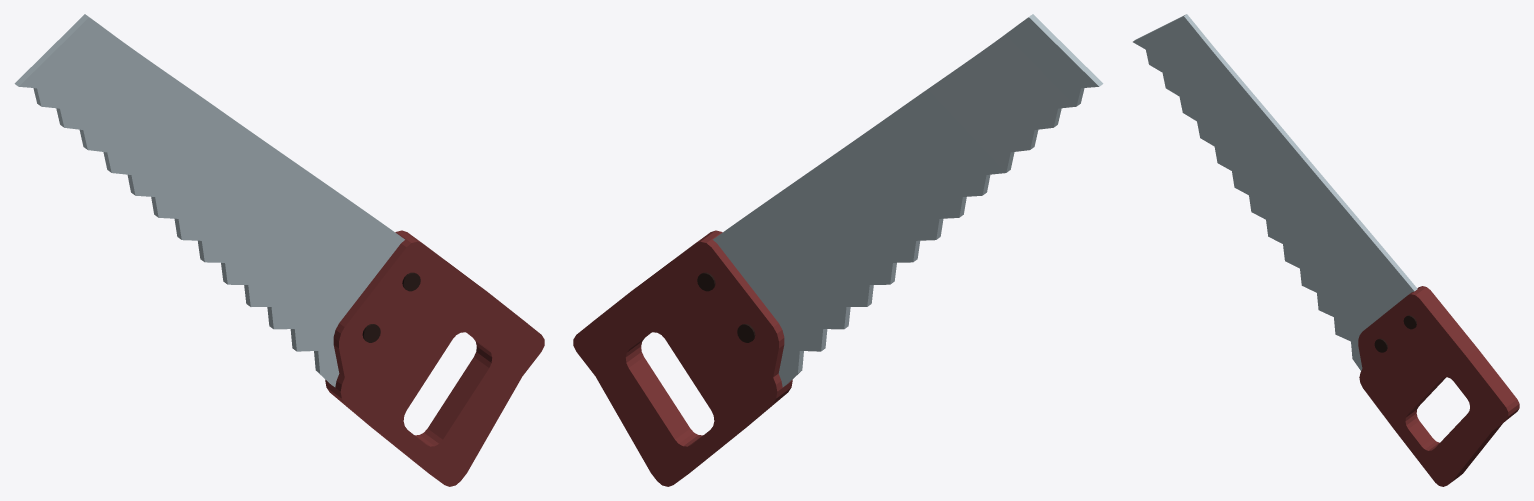
The model's file is carpentry_saw.gltf.
3 views of the same model, side by side, from view 1: azimuth 30°, elevation 25°; view 2: azimuth 150°, elevation 25°; view 3: azimuth 330°, elevation 25° (orthographic). The views are drawn at different scales.
Visible parts, largest first — view 1: Cube.998; view 2: Cube.998; view 3: Cube.998.
Boxes of the visible parts, x1,y1,x2,y2 form: Cube.998: (14, 14, 544, 486); Cube.998: (573, 14, 1103, 486); Cube.998: (1133, 14, 1519, 486).
Size of the model in its own units: 2.02 by 2.05 by 0.1198.
1 material, 1 textured.
